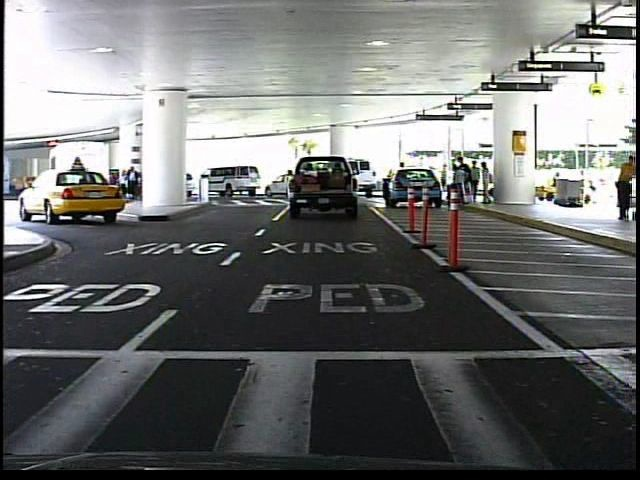person: (610, 151, 638, 223), (395, 159, 411, 199)
